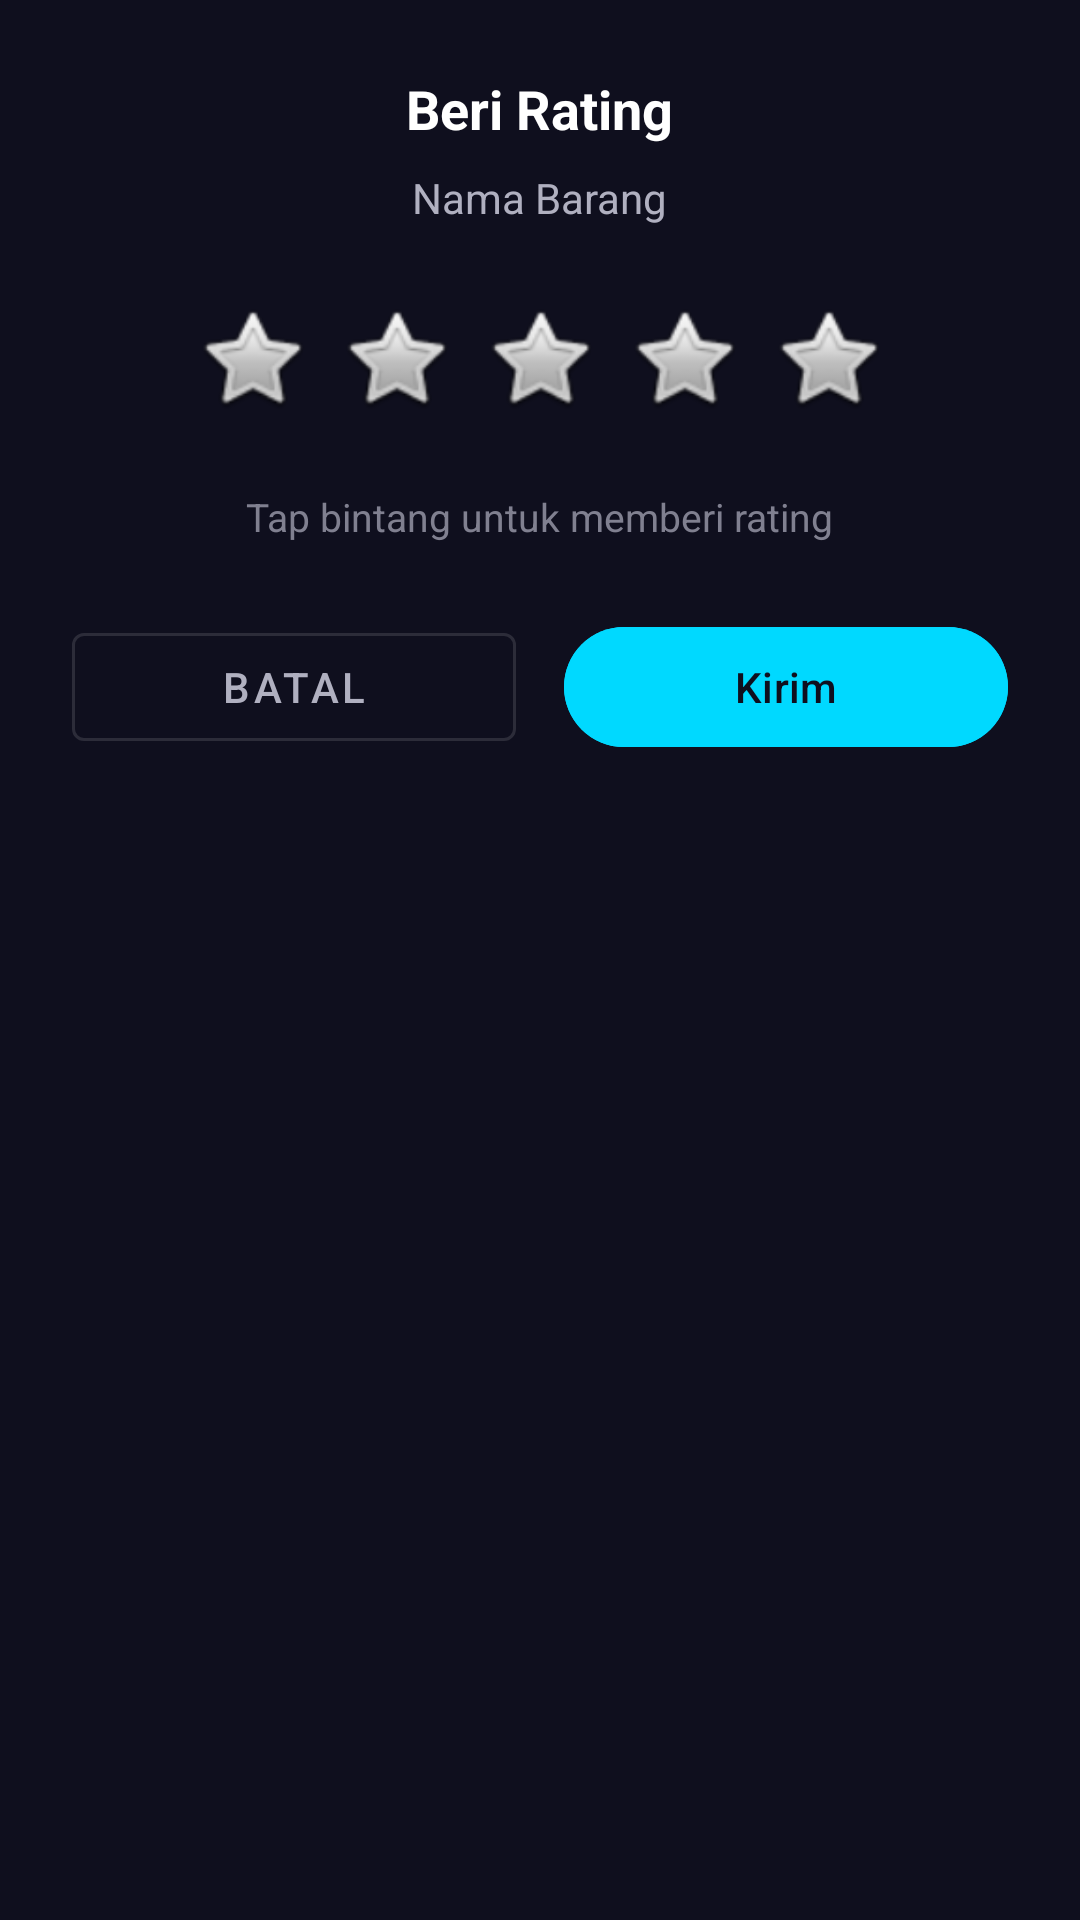

Where to tap for icons on this 1080*1920 app screen, as (x=x, y=y):
1 star: (x=253, y=358)
2 stars: (x=397, y=358)
3 stars: (x=541, y=358)
4 stars: (x=685, y=358)
5 stars: (x=829, y=358)
